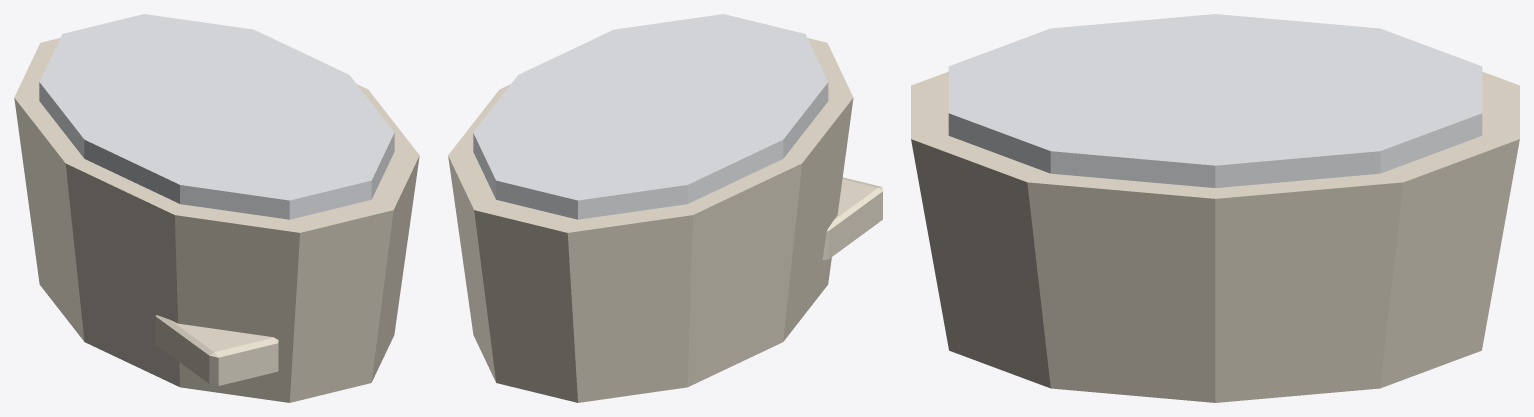
Rendered from b17_baseball_cap.glb.
The picture shows the model from 3 angles, left to right: view 1: azimuth 30°, elevation 25°; view 2: azimuth 150°, elevation 25°; view 3: azimuth 270°, elevation 25°; orthographic projection. The views are drawn at different scales.
Parts seen in each view (by area): view 1: b17_baseball_cap; view 2: b17_baseball_cap; view 3: b17_baseball_cap.
Boxes of the visible parts, x1=… form: b17_baseball_cap: x1=14, y1=14, x2=419, y2=402; b17_baseball_cap: x1=448, y1=14, x2=882, y2=402; b17_baseball_cap: x1=911, y1=14, x2=1519, y2=402.
Size of the model in its own units: 0.183 by 0.117 by 0.272.
